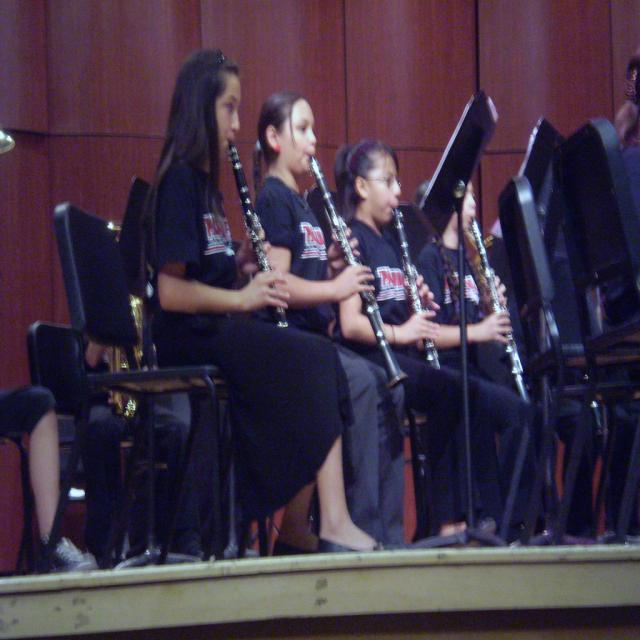clarinet: (305, 150, 408, 395), (223, 136, 291, 333), (468, 213, 533, 412), (387, 204, 441, 390), (431, 227, 468, 333), (469, 264, 494, 318)
